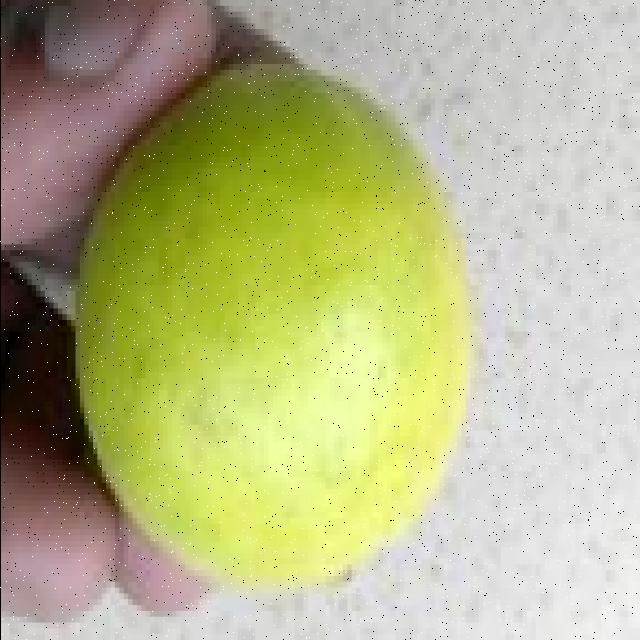Good_Lime-10-21-days: (66, 52, 473, 593)
